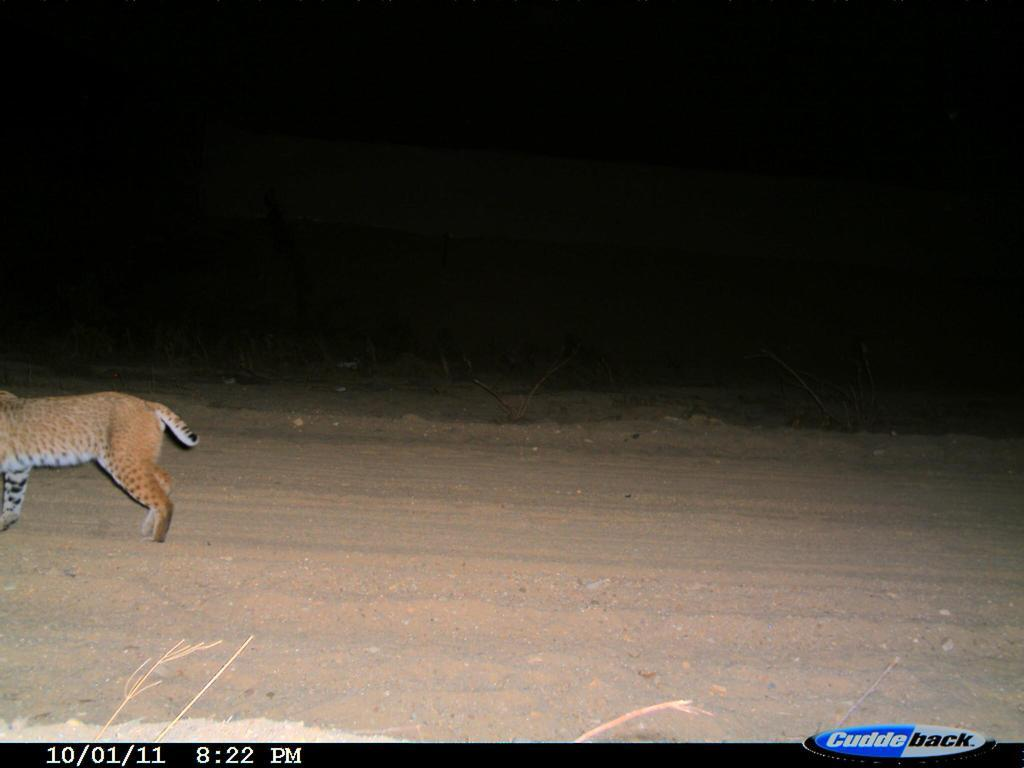bobcat: (1, 376, 201, 550)
